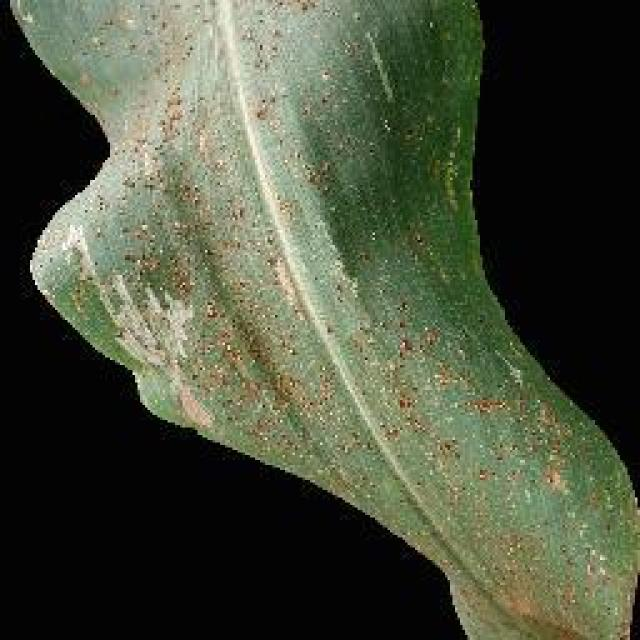Corn Common Rust: (66, 10, 640, 640)
